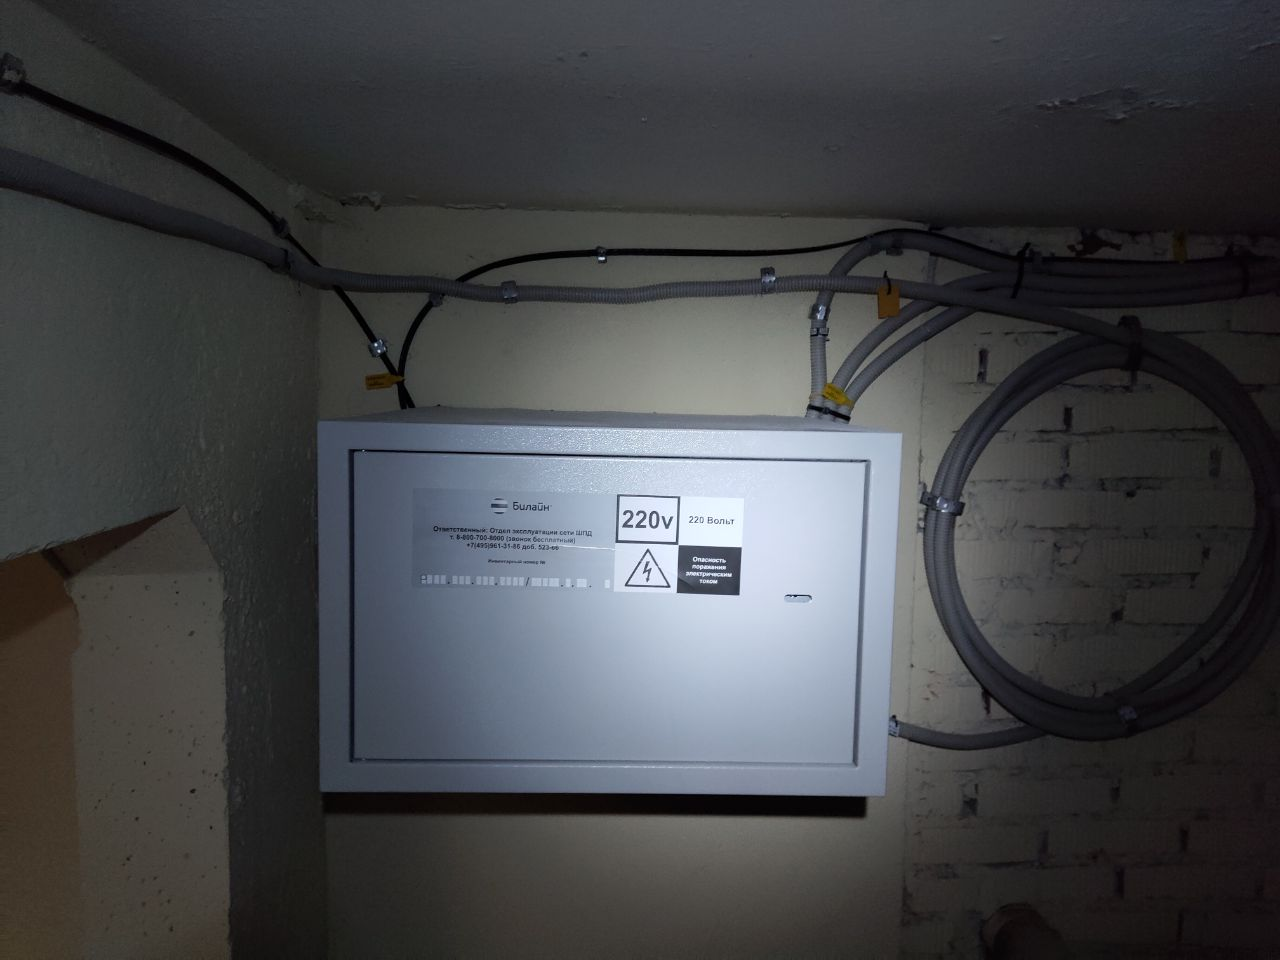shta-7m: (296, 391, 917, 815)
